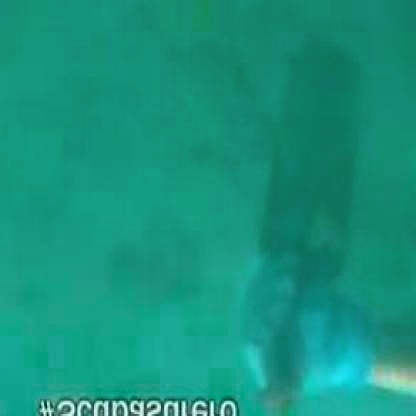gbottle: (260, 43, 350, 406)
